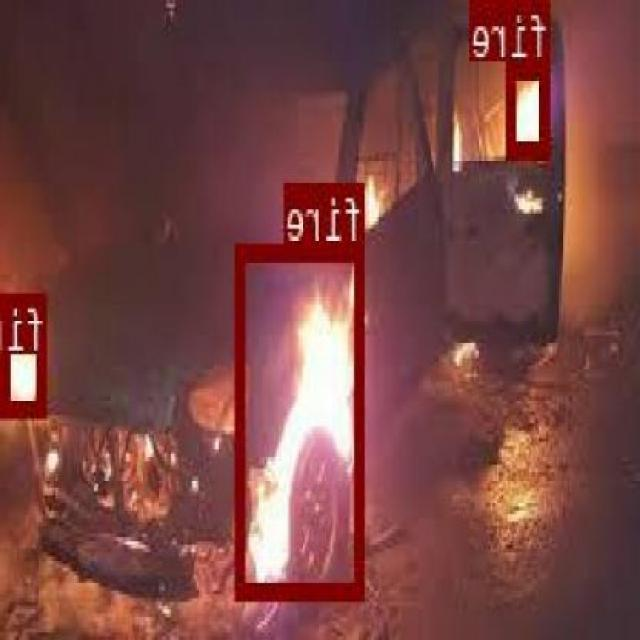Fire: (238, 242, 366, 595), (4, 290, 48, 412), (510, 58, 552, 154)
